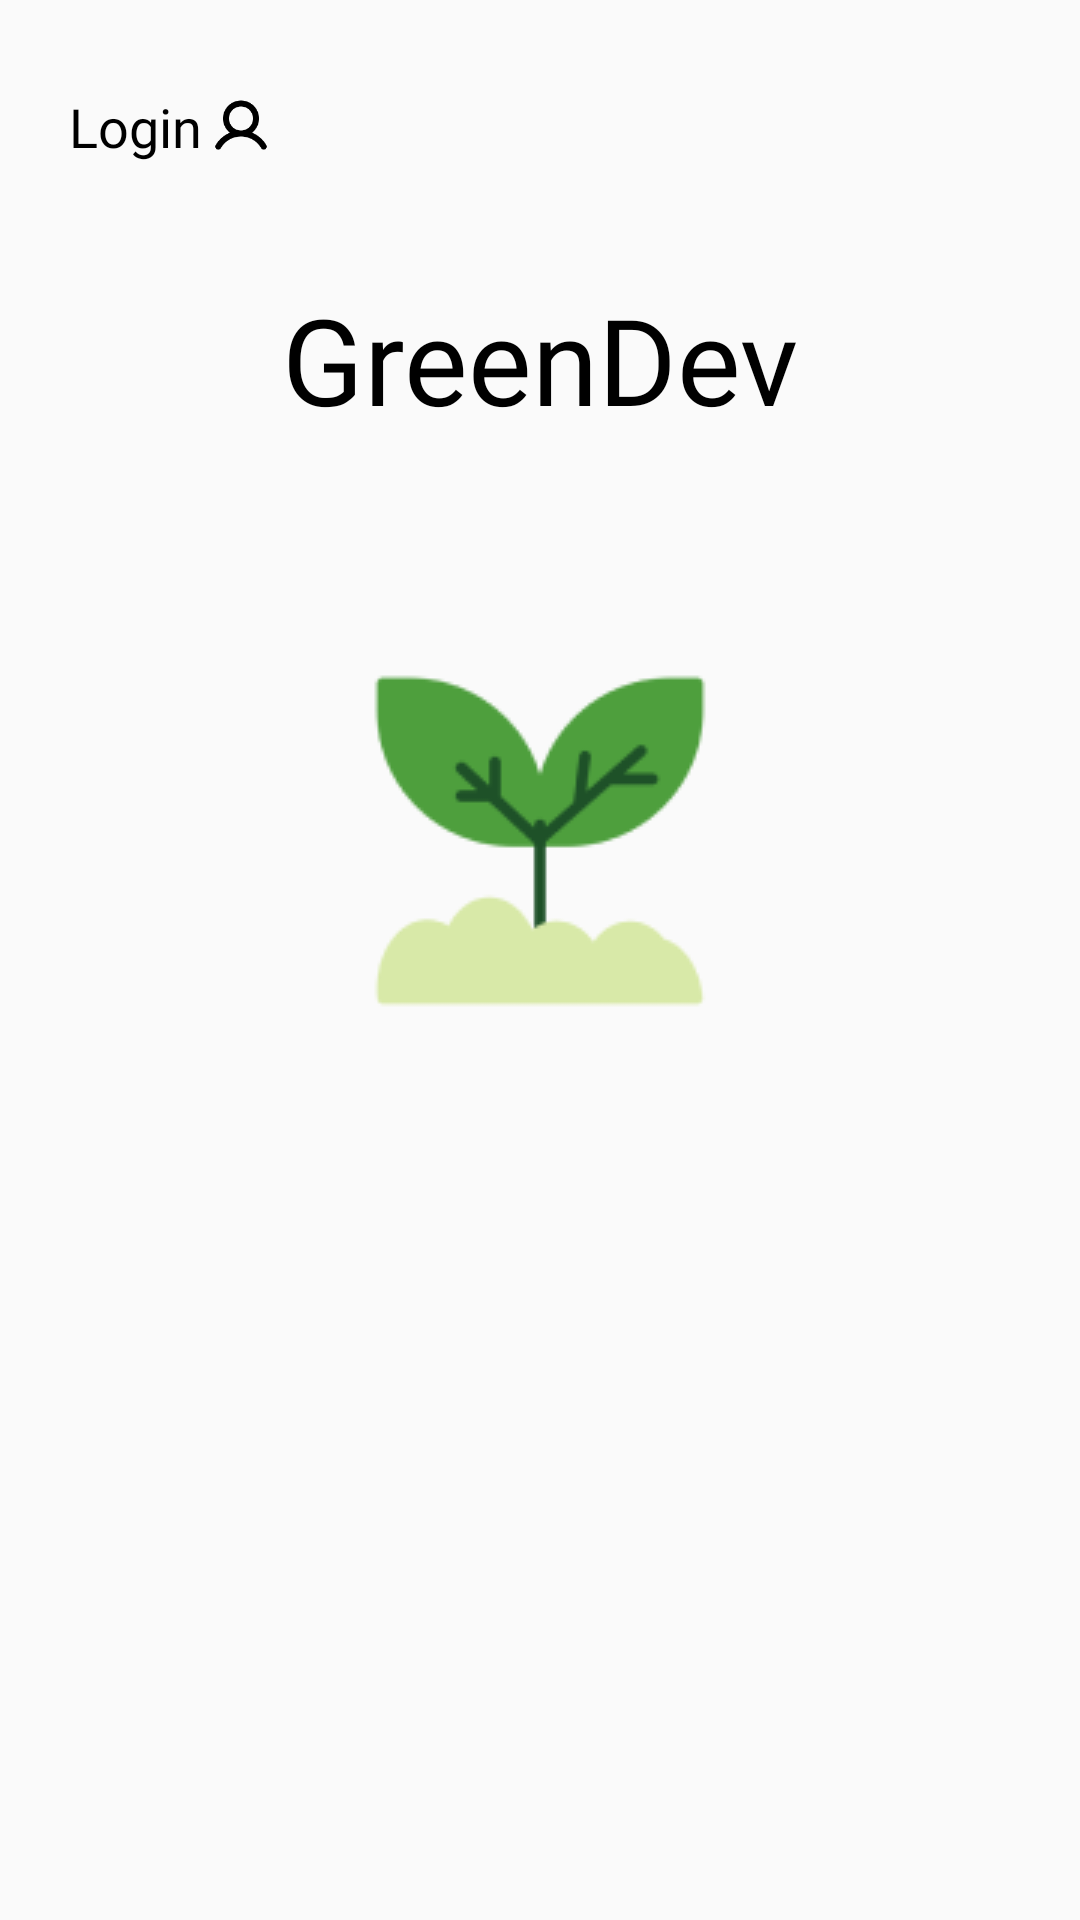

Named icons in this screenshot (1080 × 1920) and their centers, point (x, y):
user: point (241, 125)
